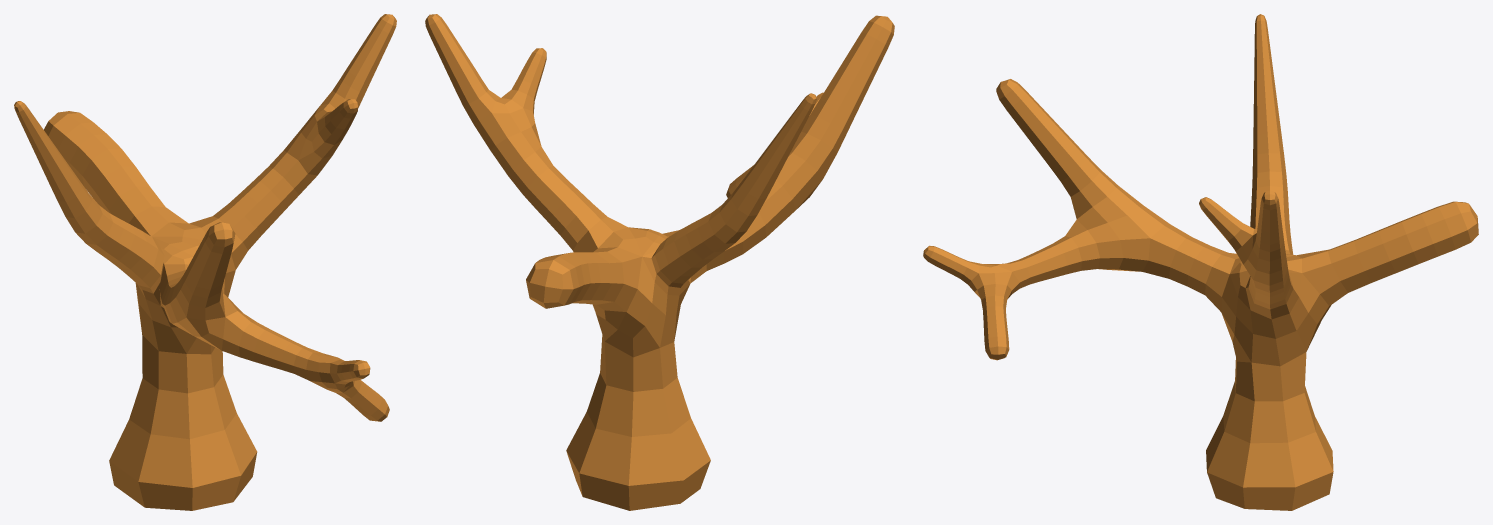
3 renders of one model, left to right at view 1: azimuth 30°, elevation 25°; view 2: azimuth 150°, elevation 25°; view 3: azimuth 270°, elevation 25°, orthographic. The views are drawn at different scales.
Visible parts, largest first — view 1: Plane.001; view 2: Plane.001; view 3: Plane.001.
Part boxes in pixels (x1,y1,x2,y2): Plane.001: [14, 14, 396, 510]; Plane.001: [425, 14, 894, 510]; Plane.001: [923, 14, 1478, 510].
Bounding box in the file's own units: 1.43 × 1.56 × 1.92.
